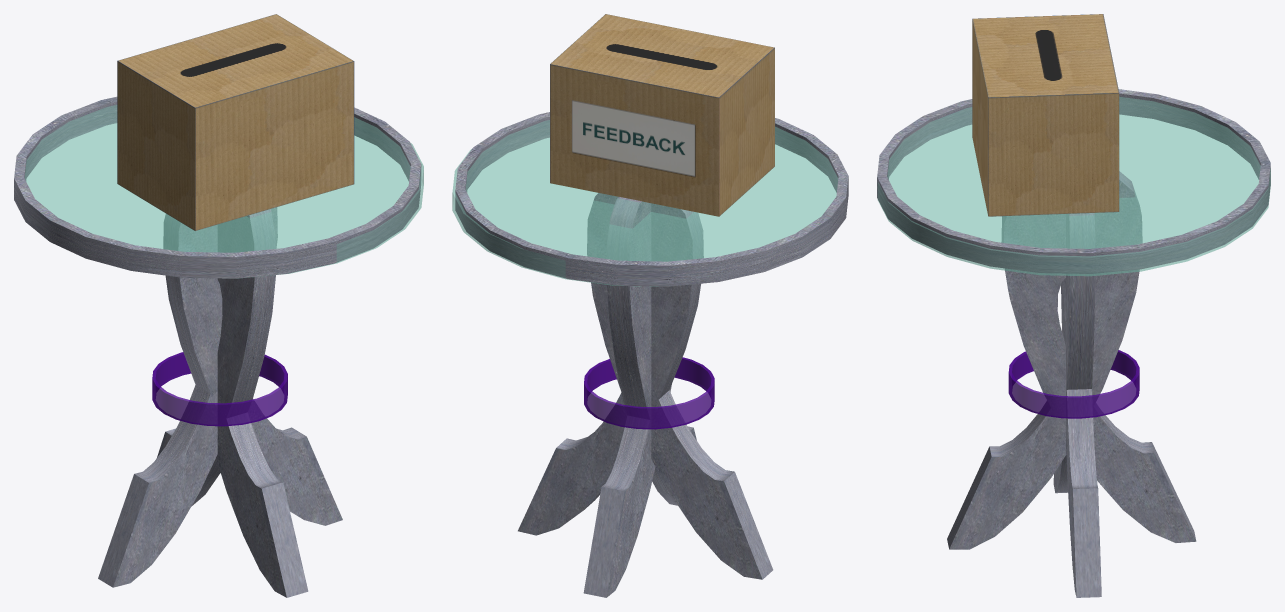
Rendered from Suggestion Box with Course Feedback Survey_133-096-023__e5827afb-3cbe-4efa-bfcc-8889c5a1e8a7.dae.
3 views of the same model, side by side, from view 1: azimuth 30°, elevation 25°; view 2: azimuth 150°, elevation 25°; view 3: azimuth 270°, elevation 25° (orthographic). The views are drawn at different scales.
Parts seen in each view (by area): view 1: Primitive (×6), Suggestion Box with Course Feedback Survey, HighTopGlassTable; view 2: Primitive (×6), Suggestion Box with Course Feedback Survey, HighTopGlassTable; view 3: Primitive (×6), HighTopGlassTable, Suggestion Box with Course Feedback Survey.
Part boxes in pixels (x1,y1,x2,y2): Primitive (×6): (14, 96, 421, 597); Suggestion Box with Course Feedback Survey: (117, 14, 354, 230); HighTopGlassTable: (25, 105, 423, 278); Primitive (×6): (455, 112, 848, 597); Suggestion Box with Course Feedback Survey: (550, 14, 774, 216); HighTopGlassTable: (452, 120, 837, 286); Primitive (×6): (877, 89, 1270, 597); HighTopGlassTable: (877, 97, 1270, 276); Suggestion Box with Course Feedback Survey: (972, 14, 1119, 216).
Bounding box in the file's own units: 1.51 × 1.5 × 2.03.
